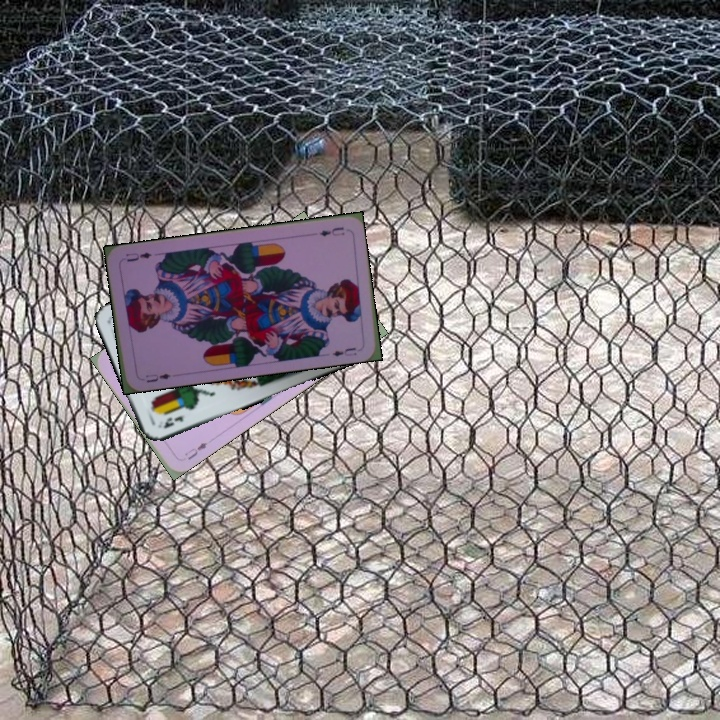EK: (154, 412, 186, 431)
EU: (180, 438, 210, 463), (141, 369, 173, 385), (316, 223, 347, 239)
